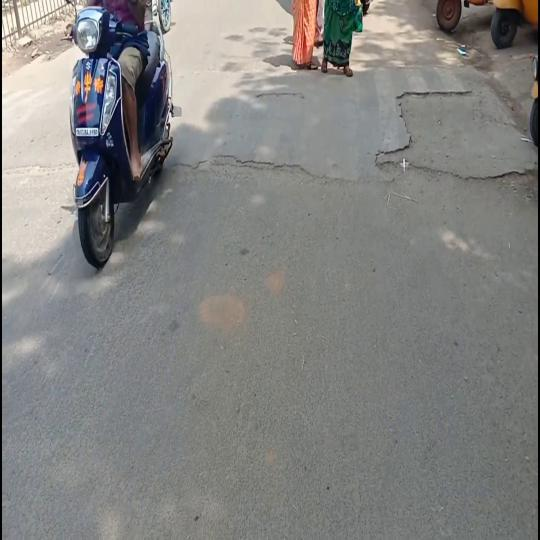Speed Bump: (172, 65, 528, 180), (2, 73, 72, 169)
